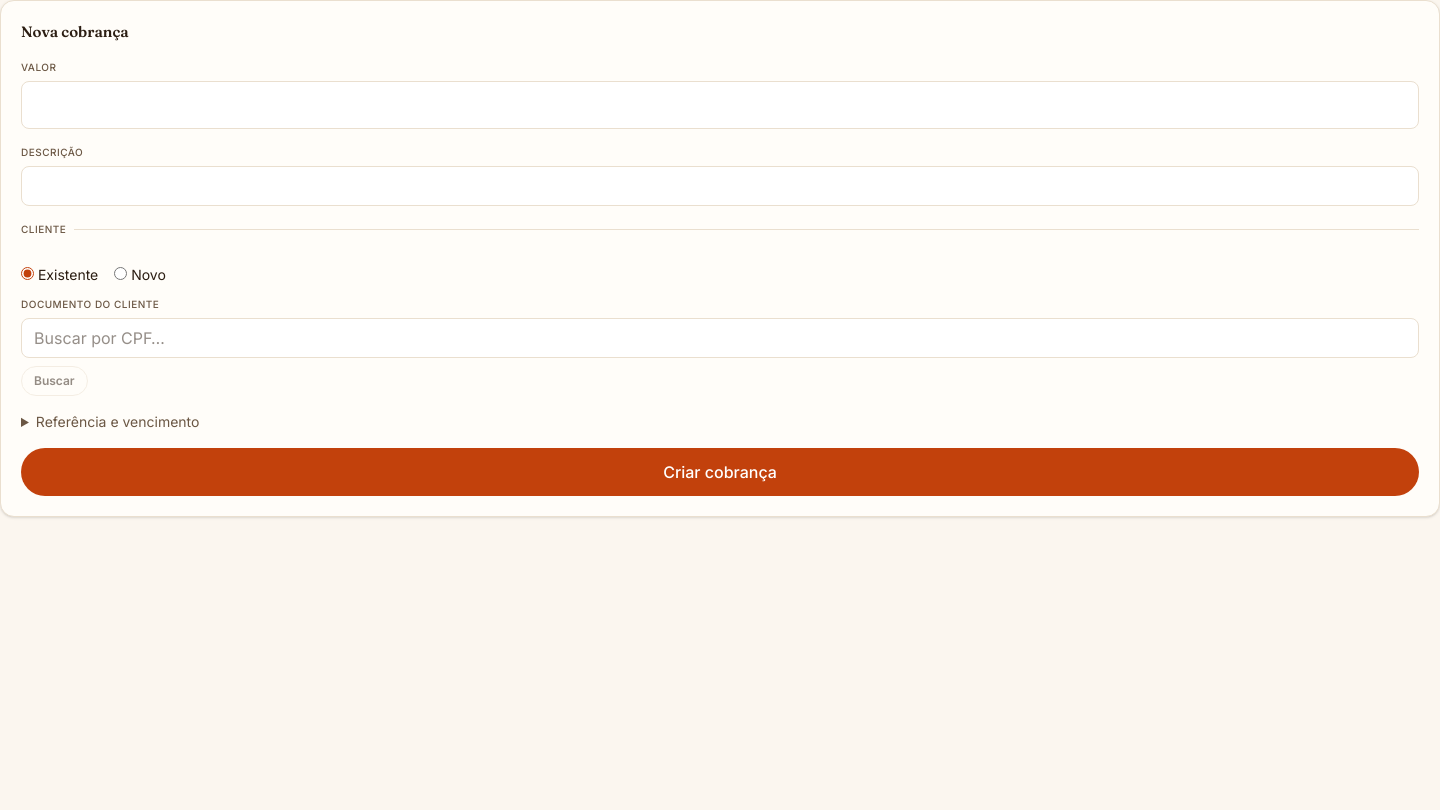
Scenario: NewOrderForm › refusesASubmitWithoutACustomer
This screenshot has width=1440, height=810.
Type "49,90" into the field labelled "Valor".
click(720, 104); type("49,90")  # box x1=21 y1=80 x2=1419 y2=128
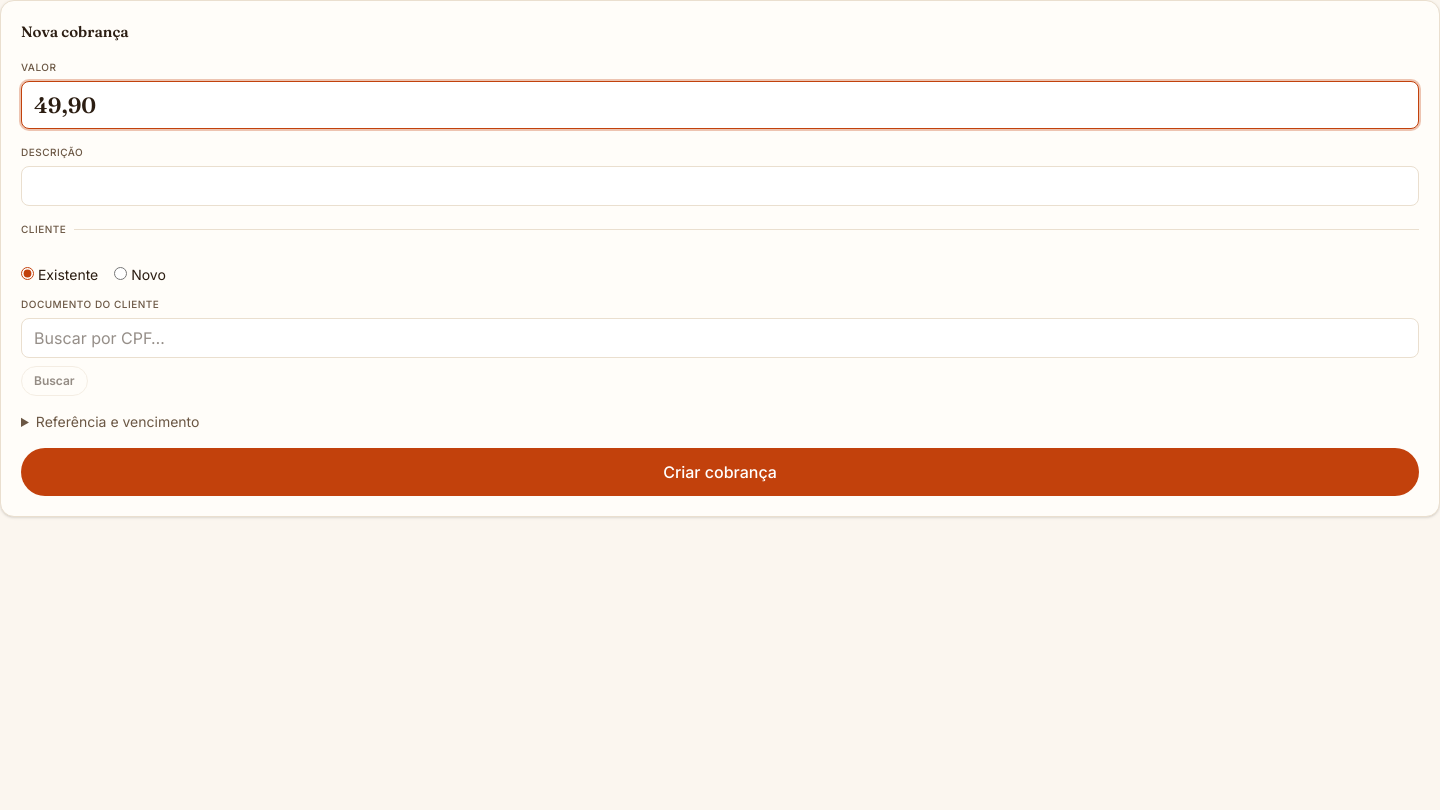
Click the button "Criar cobrança".
click(720, 472)  # box x1=21 y1=448 x2=1419 y2=496
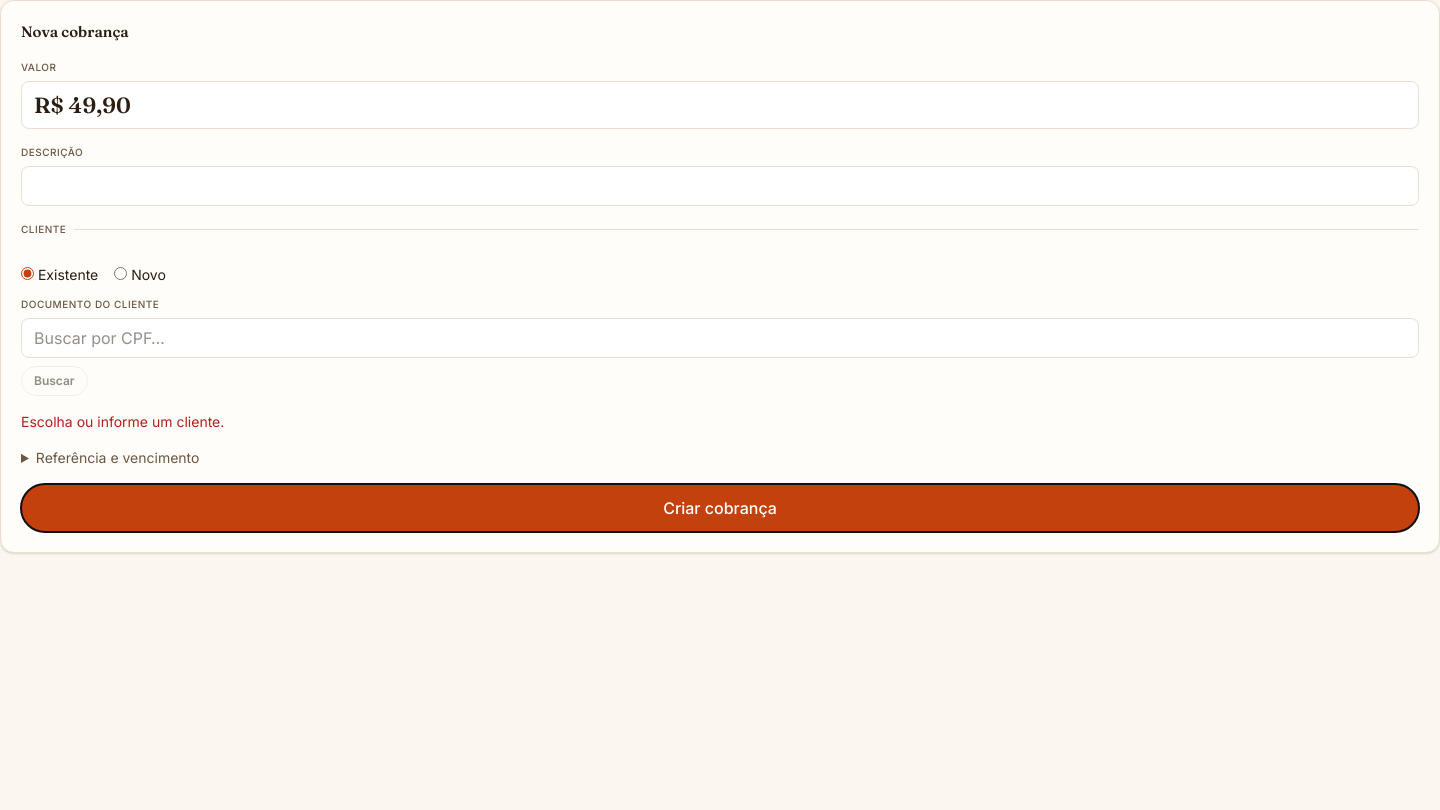
Expected: the text "Escolha ou informe um cliente." is shown, x1=21 y1=412 x2=224 y2=430
